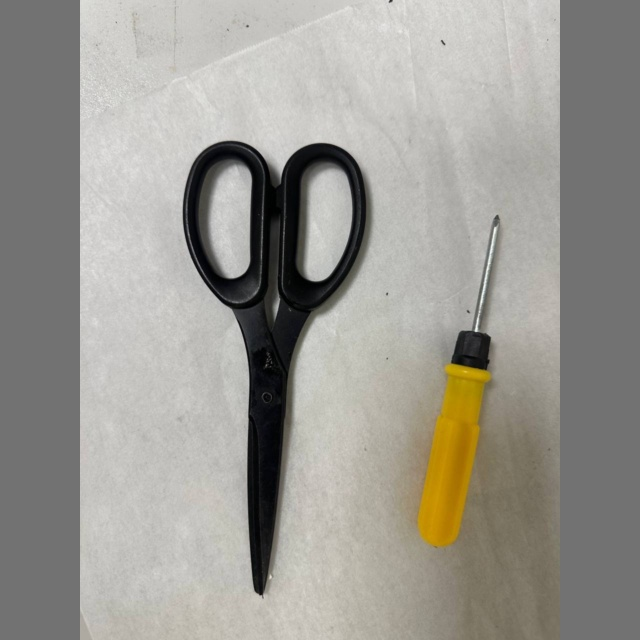scissor: (184, 141, 366, 596)
screwdriver: (418, 216, 500, 546)
